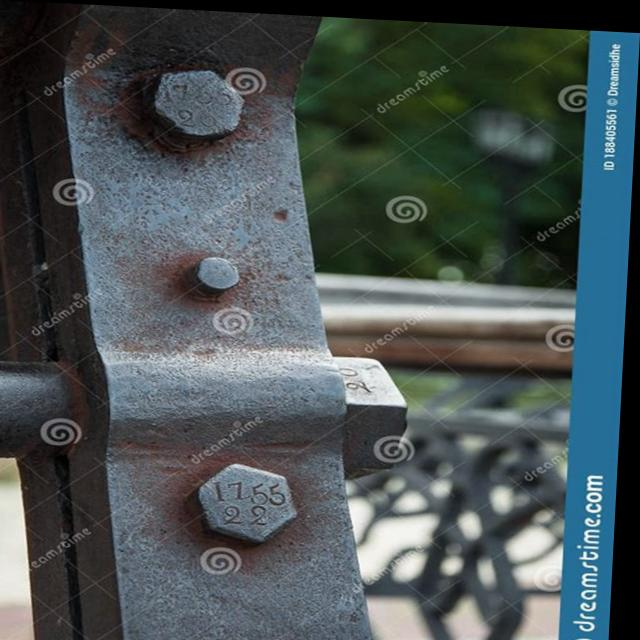Regular bolt: (205, 460, 304, 542), (152, 65, 249, 143)
